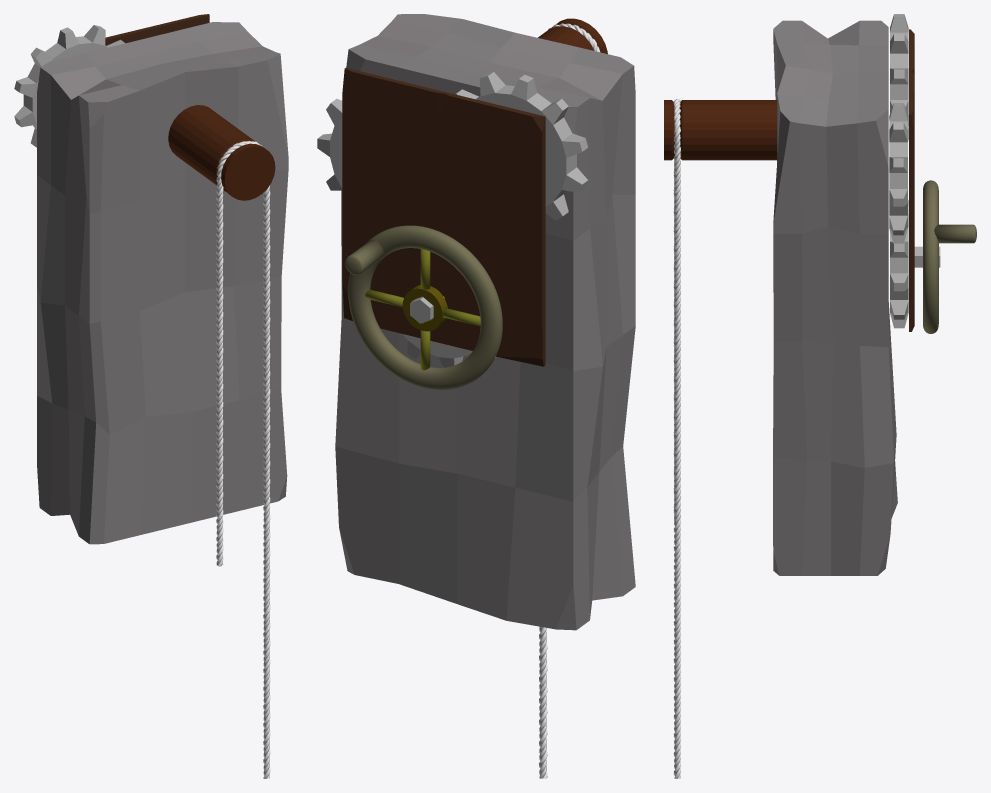
Rendered from MECHANIK_MechanikAnimation.fbx.
3 renders of one model, left to right at view 1: azimuth 30°, elevation 25°; view 2: azimuth 150°, elevation 25°; view 3: azimuth 270°, elevation 25°, orthographic. The views are drawn at different scales.
Visible parts, largest first — view 1: Cube.001, Circle.004, Circle.005, Circle.003, Cube.002; view 2: Cube.001, Cube.002, Außenrad.001, Circle.003, Circle.004, Circle.002, Circle.005, Aufsatz.001, Circle.001, Kurbel.001; view 3: Cube.001, Circle.005, Circle.004, Circle.002, Außenrad.001, Cube.002, Circle.003, Circle.001, Kurbel.001.
Part boxes in pixels (box(x1,y1,x2,y2)): Cube.001: box(37, 22, 288, 544); Circle.004: box(216, 141, 270, 778); Circle.005: box(168, 105, 275, 200); Circle.003: box(14, 25, 124, 147); Cube.002: box(105, 14, 209, 45); Cube.001: box(335, 14, 635, 630); Cube.002: box(342, 68, 545, 366); Außenrad.001: box(348, 225, 502, 390); Circle.003: box(456, 72, 588, 220); Circle.004: box(539, 23, 600, 778); Circle.002: box(317, 98, 342, 190); Circle.005: box(538, 18, 607, 53); Aufsatz.001: box(402, 285, 447, 331); Circle.001: box(402, 334, 495, 367); Kurbel.001: box(345, 239, 384, 274); Cube.001: box(773, 20, 897, 575); Circle.005: box(664, 100, 777, 160); Circle.004: box(673, 99, 680, 778); Circle.002: box(889, 102, 907, 243); Außenrad.001: box(923, 180, 938, 333); Cube.002: box(909, 29, 914, 331); Circle.003: box(890, 14, 908, 140); Circle.001: box(890, 200, 908, 328); Kurbel.001: box(934, 224, 976, 243).
Bounding box in the file's own units: 69.24 × 204 × 80.92.
